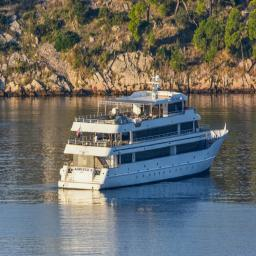cruises: (57, 75, 232, 194)
